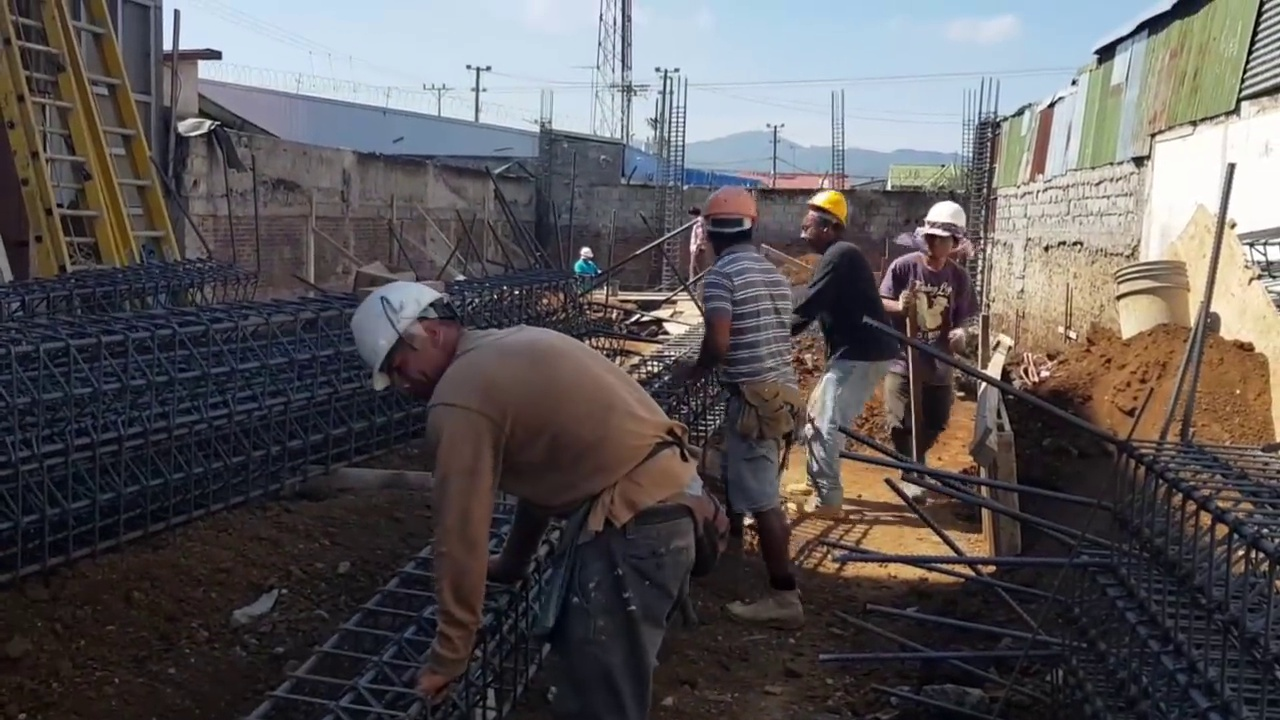helmet: (351, 283, 448, 397), (697, 186, 760, 229), (922, 200, 971, 242), (804, 188, 850, 228), (579, 247, 594, 257)
helmet-off: (688, 205, 701, 220)
helmet-on: (350, 281, 479, 400), (697, 185, 761, 264), (926, 202, 970, 263), (804, 189, 850, 246), (579, 246, 595, 263)
person: (350, 279, 716, 668), (694, 188, 803, 633), (791, 195, 911, 528), (892, 207, 985, 467), (687, 205, 709, 297), (573, 247, 601, 278)
